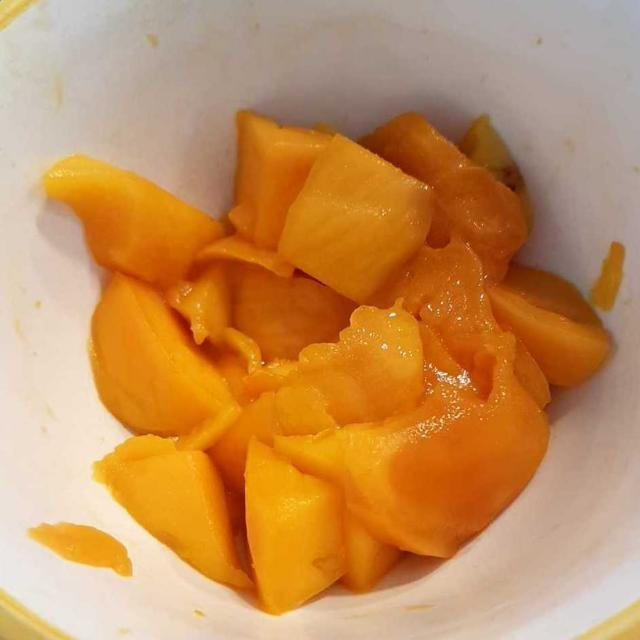mango: (50, 111, 613, 597)
